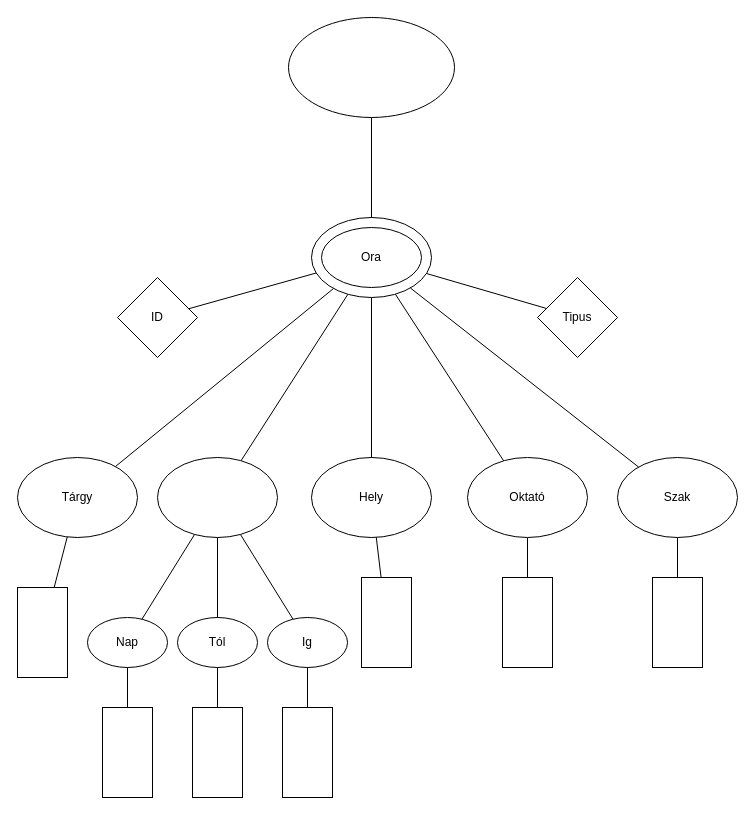
This 755x815 diagram has some shape labels left out. Each missing label, with the centre of its shape:
"Időpont" belongs at pixel 217 497.
"R41N5H_Orarend" belongs at pixel 371 67.
